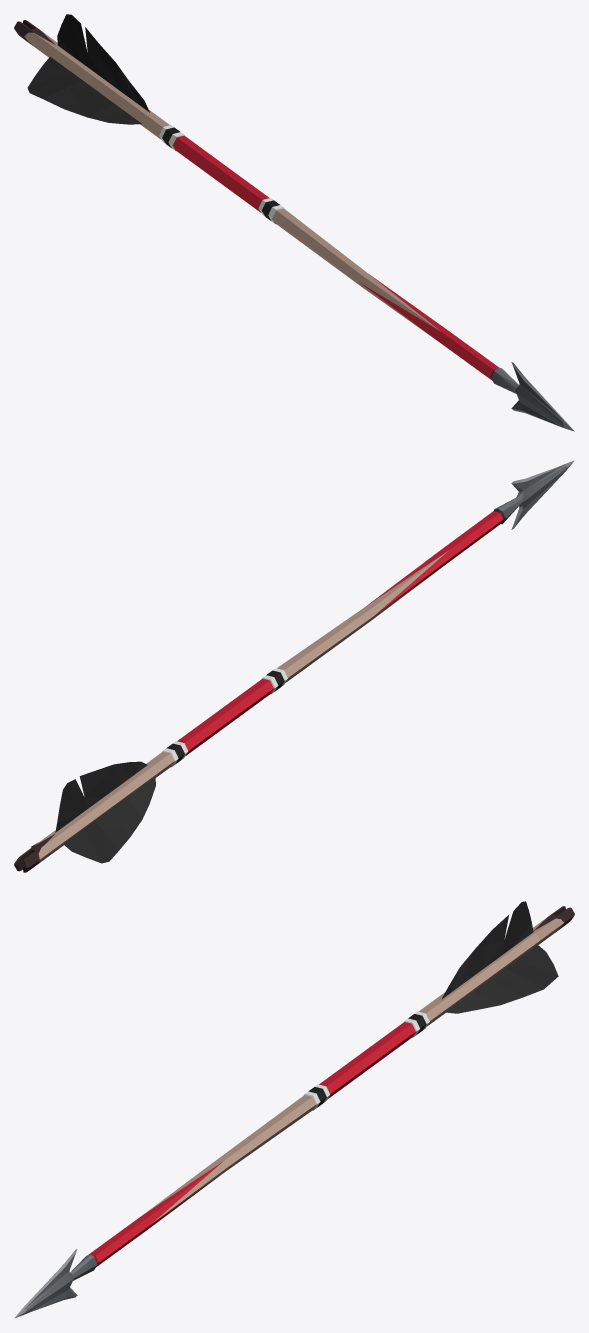
The model's file is vTipSharpColoredArrow.glb.
3 renders of one model, top to bottom at view 1: azimuth 30°, elevation 25°; view 2: azimuth 150°, elevation 25°; view 3: azimuth 330°, elevation 25°, orthographic.
Visible parts, largest first — view 1: vTipSharpColoredArrow; view 2: vTipSharpColoredArrow; view 3: vTipSharpColoredArrow.
Part boxes in pixels (x1,y1,x2,y2): vTipSharpColoredArrow: (14,14,574,431); vTipSharpColoredArrow: (14,460,574,872); vTipSharpColoredArrow: (14,901,574,1318).
Size of the model in its own units: 0.0805 by 0.0731 by 1.03.
